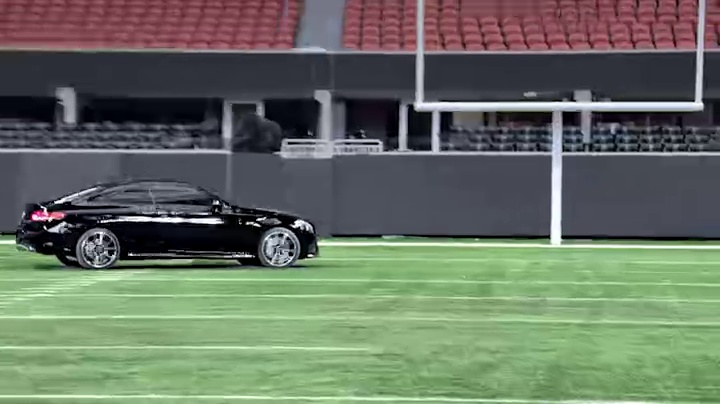amg: (19, 179, 321, 272)
